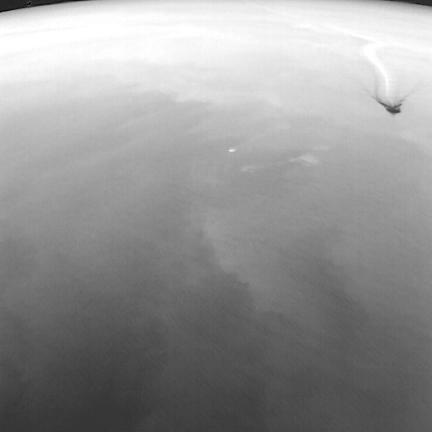flukeprints: (230, 148, 234, 152)
